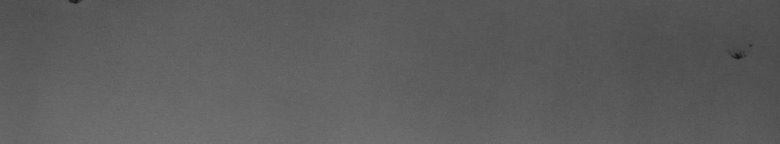fi: (727, 44, 753, 68)
